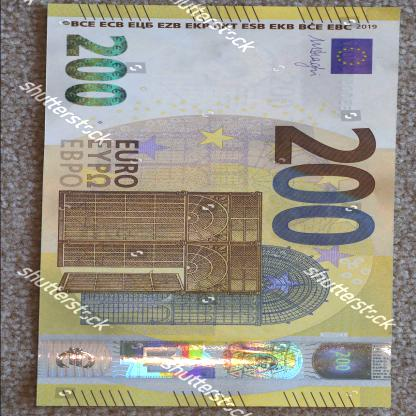euro_banknote: (18, 30, 416, 387)
